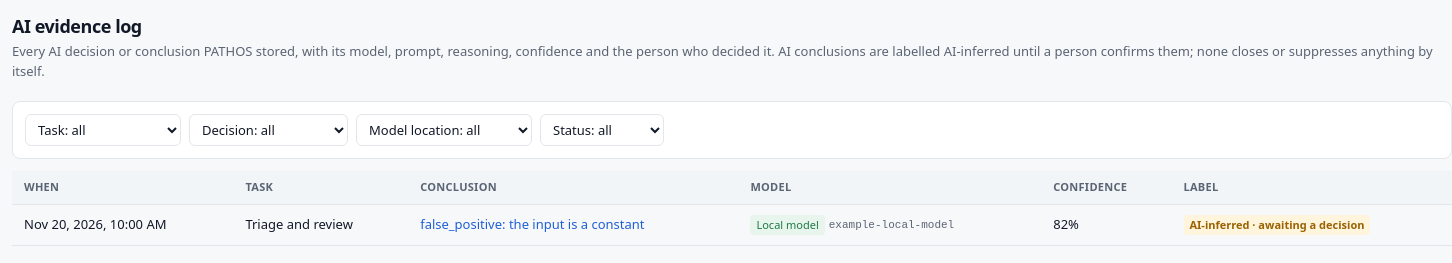
Test: AIEvidencePage › lists records and filters them
This screenshot has width=1452, height=263.
Expected: the button "false_positive: the input is a constant" is shown, [420,215,645,234]
Select "Correlation" in the dropdown named "Task". click: [103, 130]
box: [25,114,181,146]
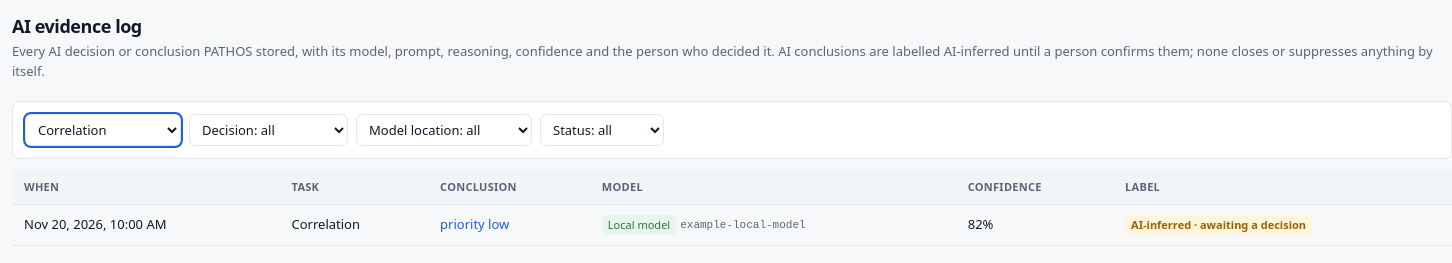
Expected: the button "priority low" is shown, [440,215,509,234]
